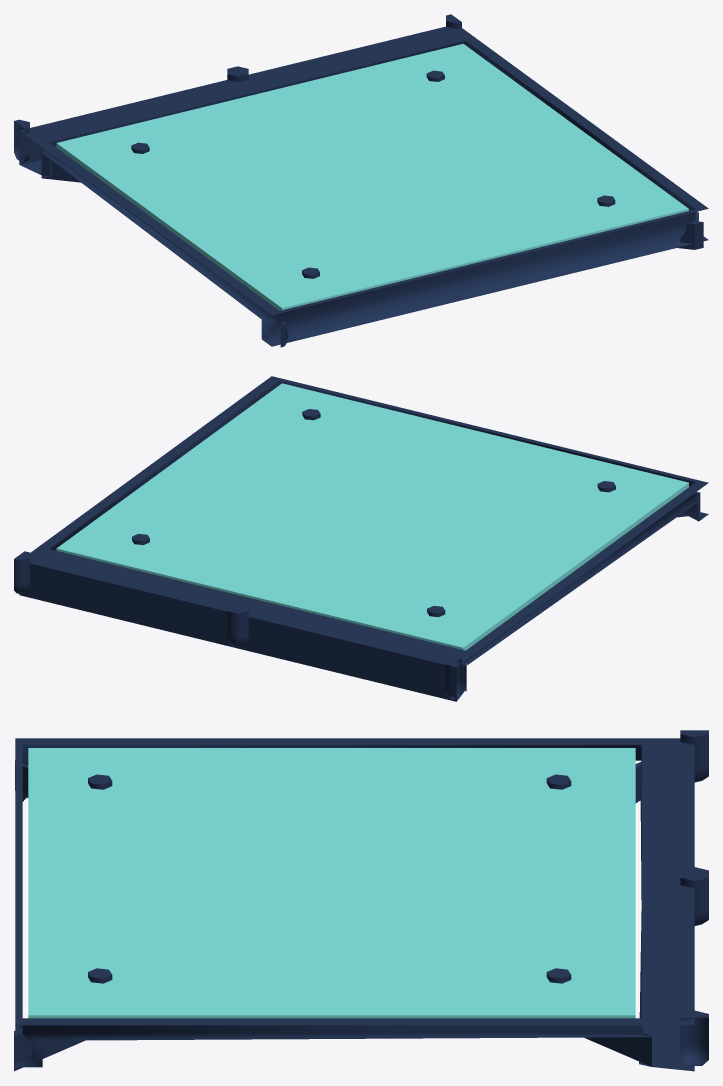
Rendered from Bridge Module A.fbx.
3 renders of one model, top to bottom at view 1: azimuth 30°, elevation 25°; view 2: azimuth 150°, elevation 25°; view 3: azimuth 270°, elevation 25°, orthographic. The views are drawn at different scales.
Parts seen in each view (by area): view 1: Cube.006; view 2: Cube.006; view 3: Cube.006.
Boxes of the visible parts, left/top/right/bottom form: Cube.006: left=14, top=14, right=708, bottom=347; Cube.006: left=14, top=376, right=708, bottom=701; Cube.006: left=14, top=730, right=708, bottom=1071.
Bounding box in the file's own units: 2 × 0.1882 × 2.05.
